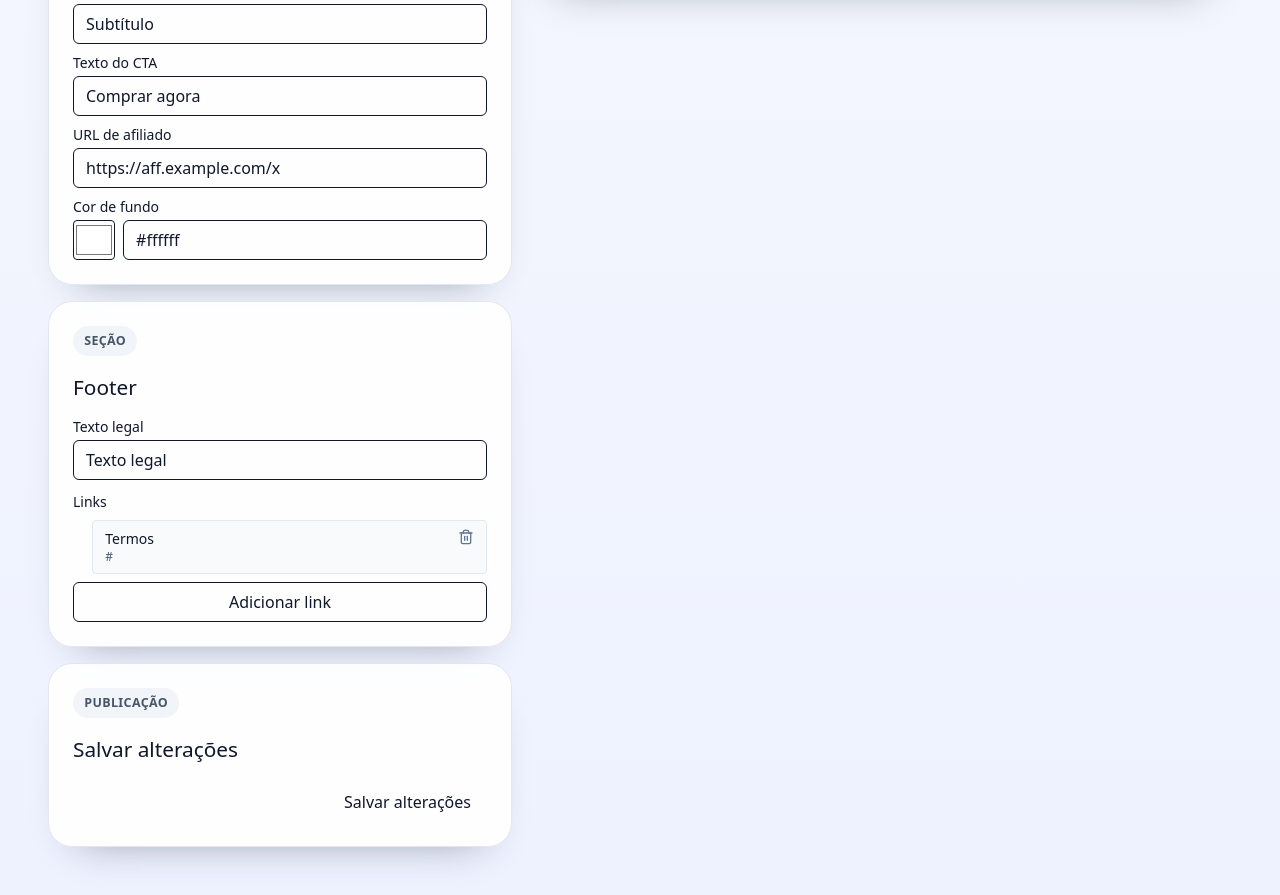
Test: PresellsV2EditPage save flow › shows inline error and does not navigate on save error
(page scrolled)
What coordinates should you click on to do the following:
click the button "Salvar alterações"
I would click on:
 (408, 802)
Its box is [328,782,487,822].
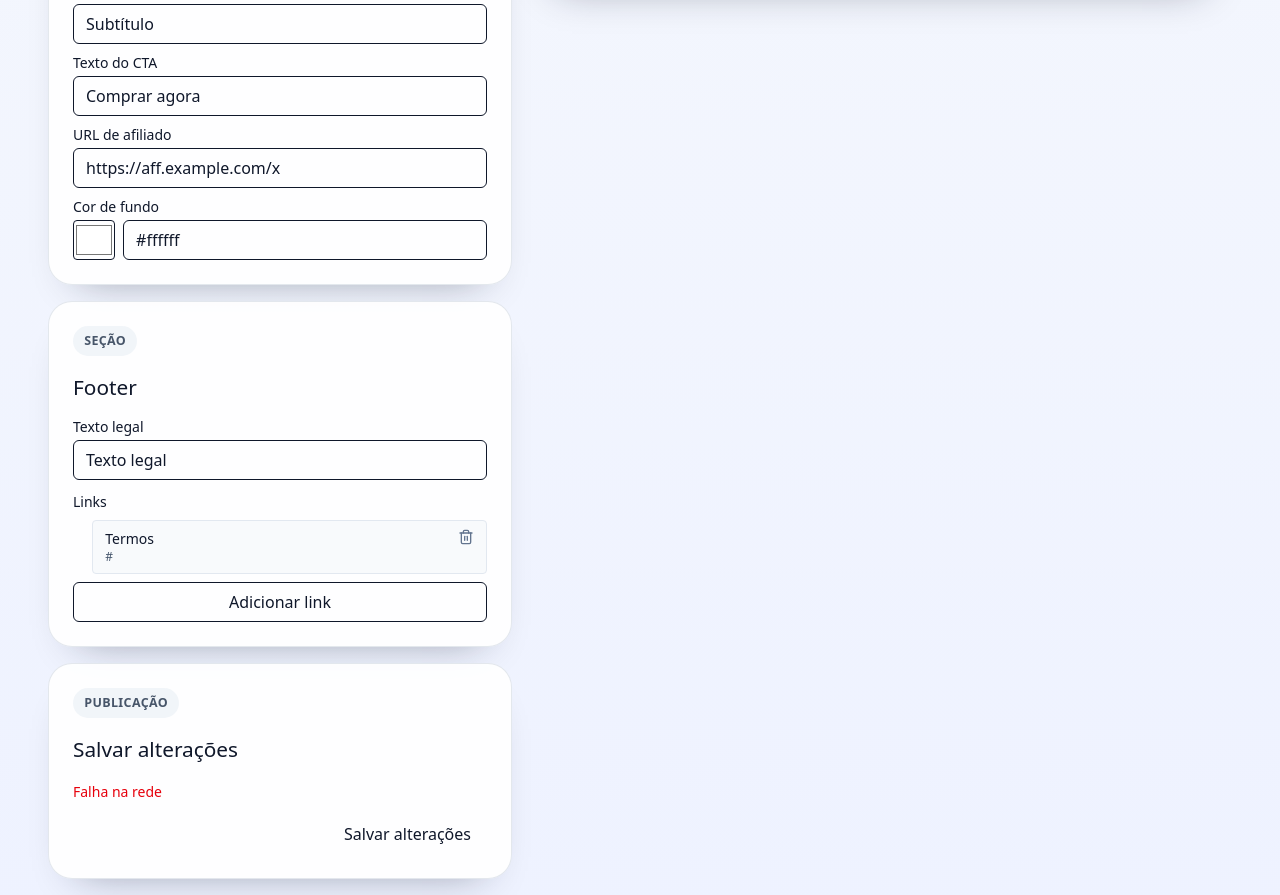
Check: the text "Falha na rede" is shown, box [73,782,162,801]
